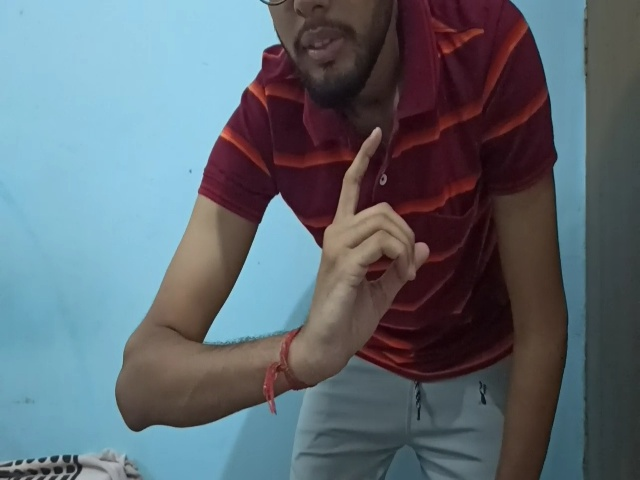D: (303, 127, 429, 388)
